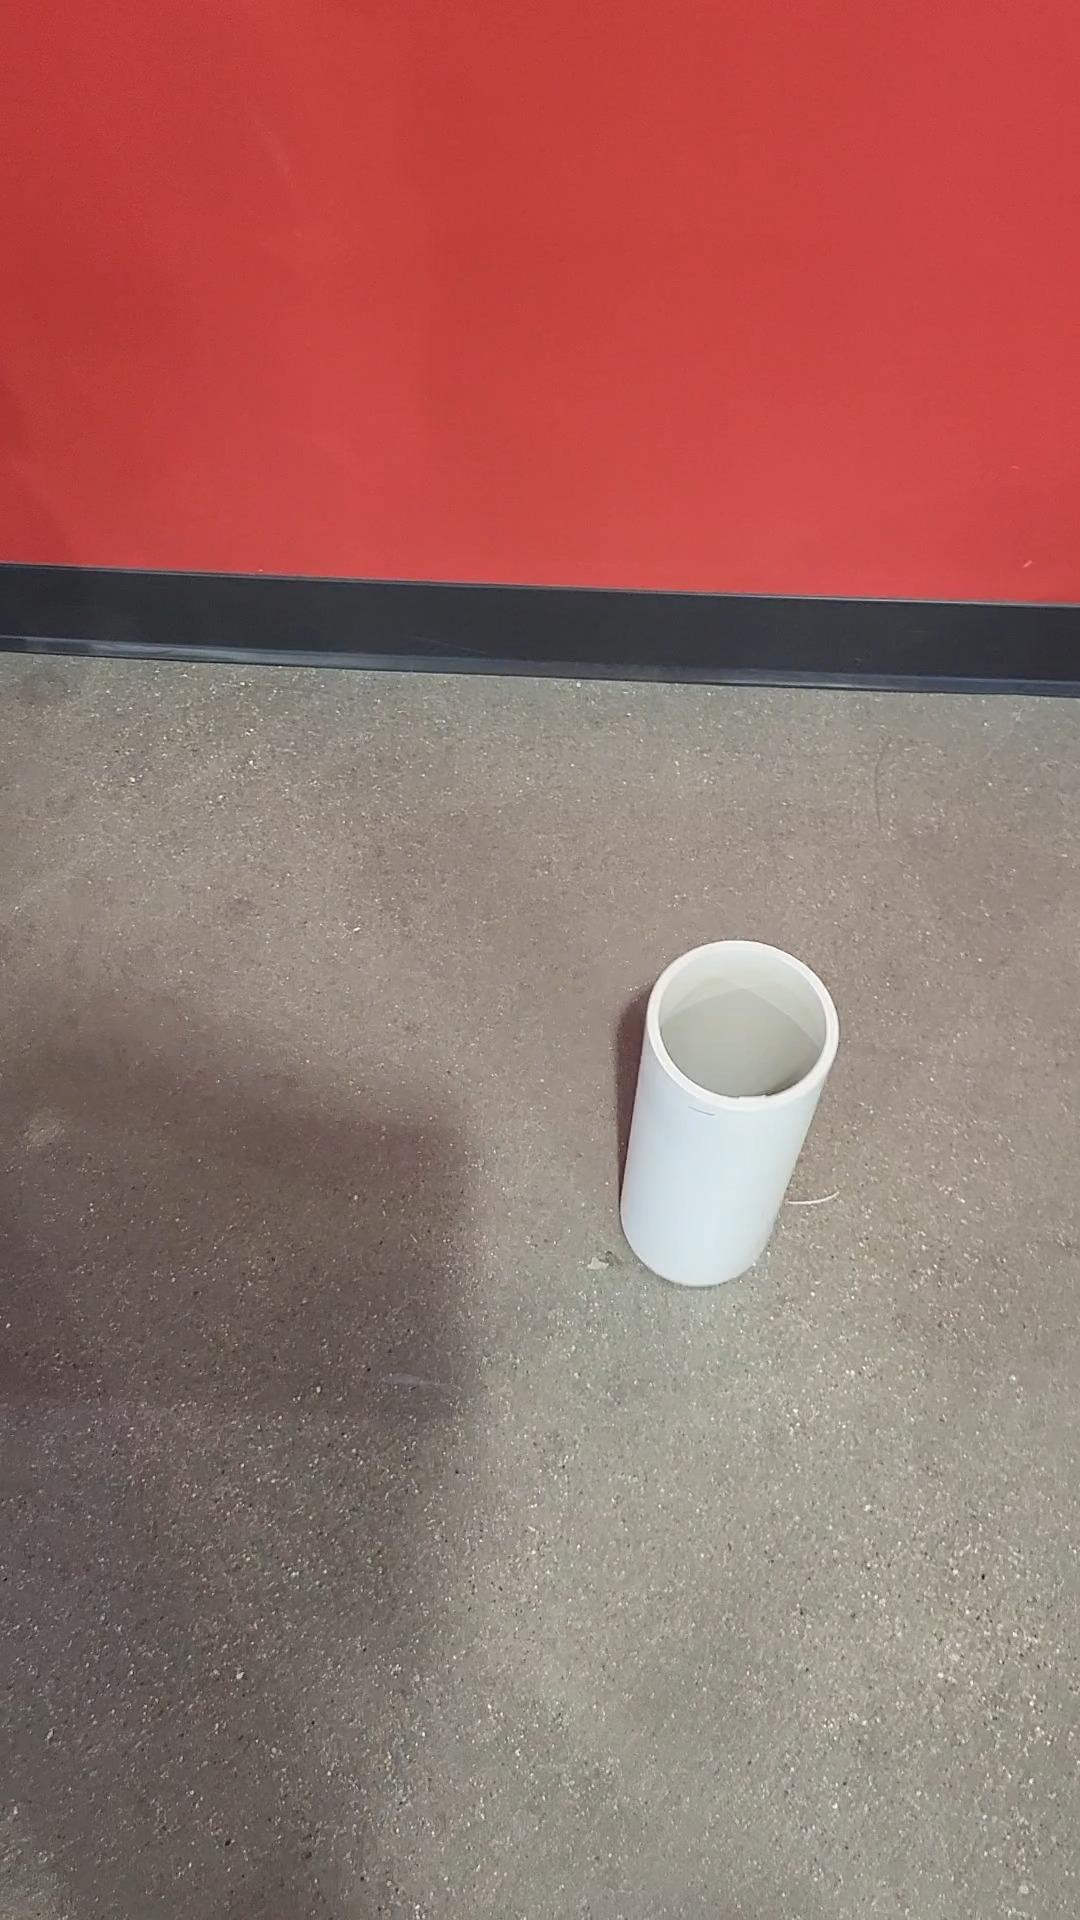coral: (616, 934, 845, 1288)
